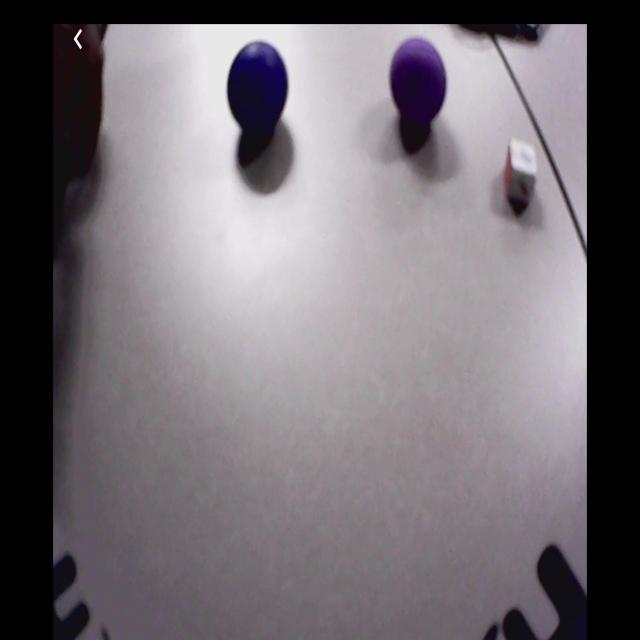ball: (228, 42, 290, 138), (392, 41, 448, 120)
